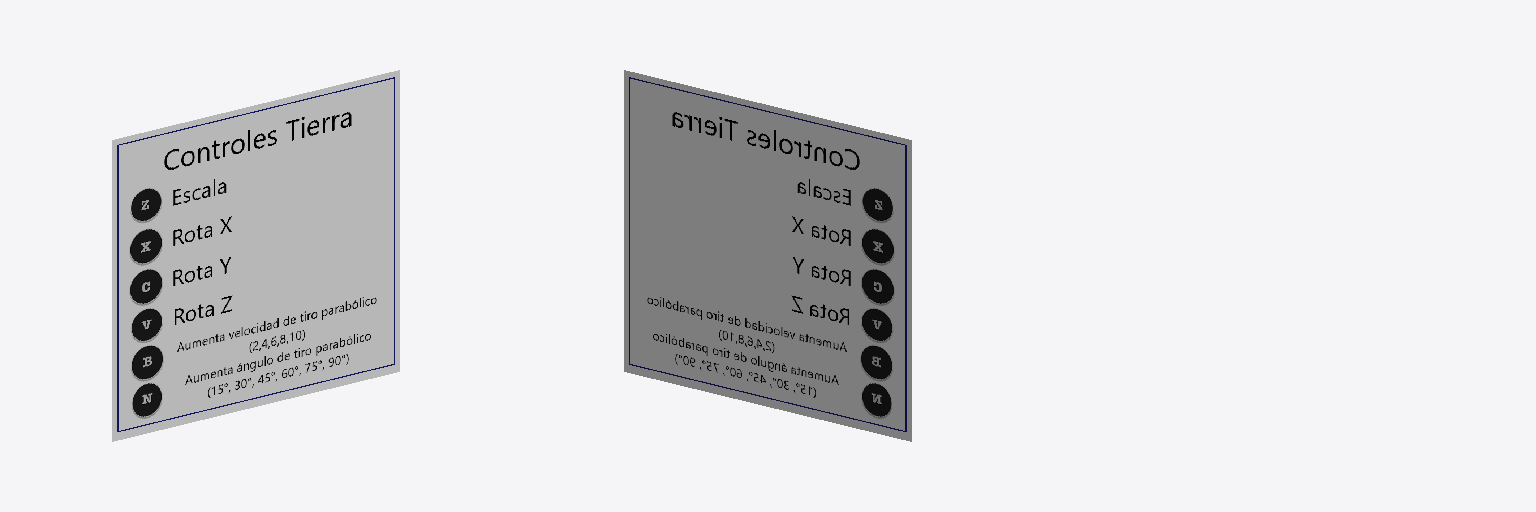
3 renders of one model, left to right at view 1: azimuth 30°, elevation 25°; view 2: azimuth 150°, elevation 25°; view 3: azimuth 270°, elevation 25°, orthographic.
Parts seen in each view (by area): view 1: pPlane1; view 2: pPlane1; view 3: none.
Boxes of the visible parts, box(x1,y1,x2,y2) form: pPlane1: box(112, 70, 399, 441); pPlane1: box(624, 70, 911, 441).
Bounding box in the file's own units: 2.5 × 2.5 × 0.
Materials: 1 (1 with a texture image).